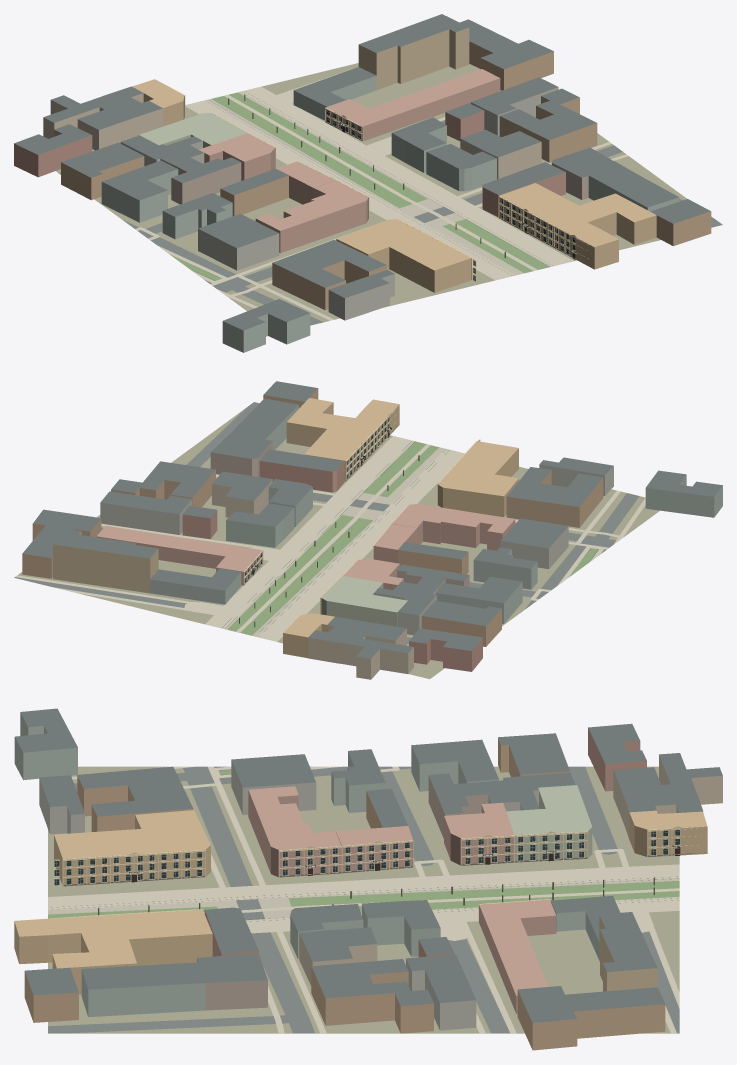
Rendered from sector--1_-5.glb.
3 views of the same model, one above another, from view 1: azimuth 30°, elevation 25°; view 2: azimuth 150°, elevation 25°; view 3: azimuth 270°, elevation 25° (orthographic). The views are drawn at different scales.
Parts seen in each view (by area): view 1: -1:-5-facade, -1:-5-roof, -1:-5-masonry, -1:-5-paving, -1:-5-ground, -1:-5-park, -1:-5-road, -1:-5-stone, -1:-5-boulevard, -1:-5-glass; view 2: -1:-5-facade, -1:-5-roof, -1:-5-masonry, -1:-5-paving, -1:-5-ground, -1:-5-park, -1:-5-road, -1:-5-boulevard, -1:-5-stone, -1:-5-glass; view 3: -1:-5-roof, -1:-5-masonry, -1:-5-facade, -1:-5-ground, -1:-5-paving, -1:-5-road, -1:-5-stone, -1:-5-park, -1:-5-glass, -1:-5-boulevard.
Boxes of the visible parts, left/top/right/bottom form: -1:-5-facade: left=14, top=27, right=711, bottom=352; -1:-5-roof: left=14, top=14, right=710, bottom=330; -1:-5-masonry: left=132, top=69, right=656, bottom=292; -1:-5-paving: left=135, top=68, right=628, bottom=320; -1:-5-ground: left=56, top=63, right=712, bottom=322; -1:-5-park: left=169, top=92, right=549, bottom=280; -1:-5-road: left=59, top=120, right=722, bottom=325; -1:-5-stone: left=161, top=82, right=589, bottom=281; -1:-5-boulevard: left=207, top=92, right=571, bottom=278; -1:-5-glass: left=327, top=110, right=575, bottom=279; -1:-5-facade: left=22, top=388, right=722, bottom=679; -1:-5-roof: left=22, top=381, right=722, bottom=658; -1:-5-masonry: left=96, top=398, right=518, bottom=658; -1:-5-paving: left=15, top=436, right=645, bottom=641; -1:-5-ground: left=18, top=408, right=659, bottom=679; -1:-5-park: left=227, top=441, right=597, bottom=635; -1:-5-road: left=14, top=402, right=639, bottom=643; -1:-5-boulevard: left=226, top=441, right=444, bottom=639; -1:-5-stone: left=243, top=406, right=480, bottom=631; -1:-5-glass: left=245, top=417, right=389, bottom=582; -1:-5-roof: left=15, top=708, right=722, bottom=1022; -1:-5-masonry: left=14, top=785, right=707, bottom=1014; -1:-5-facade: left=14, top=713, right=722, bottom=1050; -1:-5-ground: left=48, top=766, right=679, bottom=1033; -1:-5-paving: left=48, top=766, right=679, bottom=1033; -1:-5-road: left=48, top=766, right=679, bottom=1033; -1:-5-stone: left=20, top=826, right=704, bottom=921; -1:-5-park: left=48, top=766, right=679, bottom=918; -1:-5-glass: left=54, top=829, right=680, bottom=885; -1:-5-boulevard: left=48, top=878, right=679, bottom=932.
Bounding box in the file's own units: 236 × 16 × 225.
